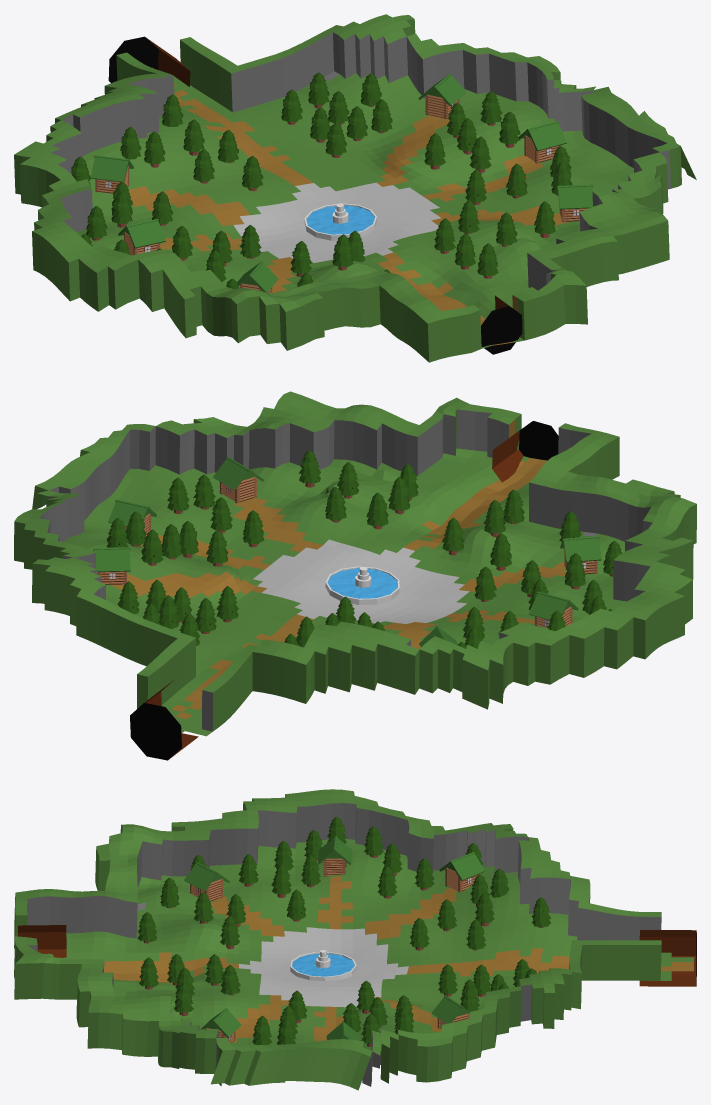
File: FIRSTVILLAGE_V1.fbx
3 views of the same model, one above another, from view 1: azimuth 30°, elevation 25°; view 2: azimuth 150°, elevation 25°; view 3: azimuth 270°, elevation 25° (orthographic). The views are drawn at different scales.
Parts seen in each view (by area): view 1: The Ground, Entrance.001, Entrance, Water, WaterFountain, Cube.029, Roof 2, Cube.037, Cube.014, Cylinder.044, Cylinder.024, Cylinder.019 (+22 smaller); view 2: The Ground, Entrance.001, Entrance, Water, WaterFountain, Cube.021, Cube.046, Cube.038, Roof 1, Cylinder.035, Cylinder.044, Cylinder.042 (+14 smaller); view 3: The Ground, Entrance.001, Entrance, Water, WaterFountain, Cube.030, Cube.045, Cube.022, Cylinder.030, Cylinder.044.
Boxes of the visible parts, x1,y1,x2,y2 form: The Ground: (14,14,696,362); Entrance.001: (108,36,190,86); Entrance: (481,295,522,354); Water: (306,205,374,234); WaterFountain: (304,203,377,240); Cube.029: (90,157,128,182); Roof 2: (558,186,592,209); Cube.037: (127,220,165,248); Cube.014: (528,123,567,151); Cylinder.044: (534,201,555,237); Cylinder.024: (111,191,132,227); Cylinder.019: (144,131,165,167); The Ground: (14,391,696,736); Entrance.001: (130,680,198,760); Entrance: (492,421,558,482); Water: (327,568,397,598); WaterFountain: (325,566,399,604); Cube.021: (94,549,130,572); Cube.046: (563,538,601,562); Cube.038: (528,593,568,620); Roof 1: (213,459,248,490); Cylinder.035: (490,533,511,570); Cylinder.044: (299,450,320,487); Cylinder.042: (366,492,388,529); The Ground: (14,789,693,1090); Entrance.001: (639,930,696,986); Entrance: (18,925,66,957); Water: (292,953,354,976); WaterFountain: (290,950,356,981); Cube.030: (451,853,484,880); Cube.045: (184,863,216,891); Cube.022: (431,997,461,1023); Cylinder.030: (271,864,291,897); Cylinder.044: (174,983,193,1016).
Bounding box in the file's own units: 7754 × 1082 × 8421.
